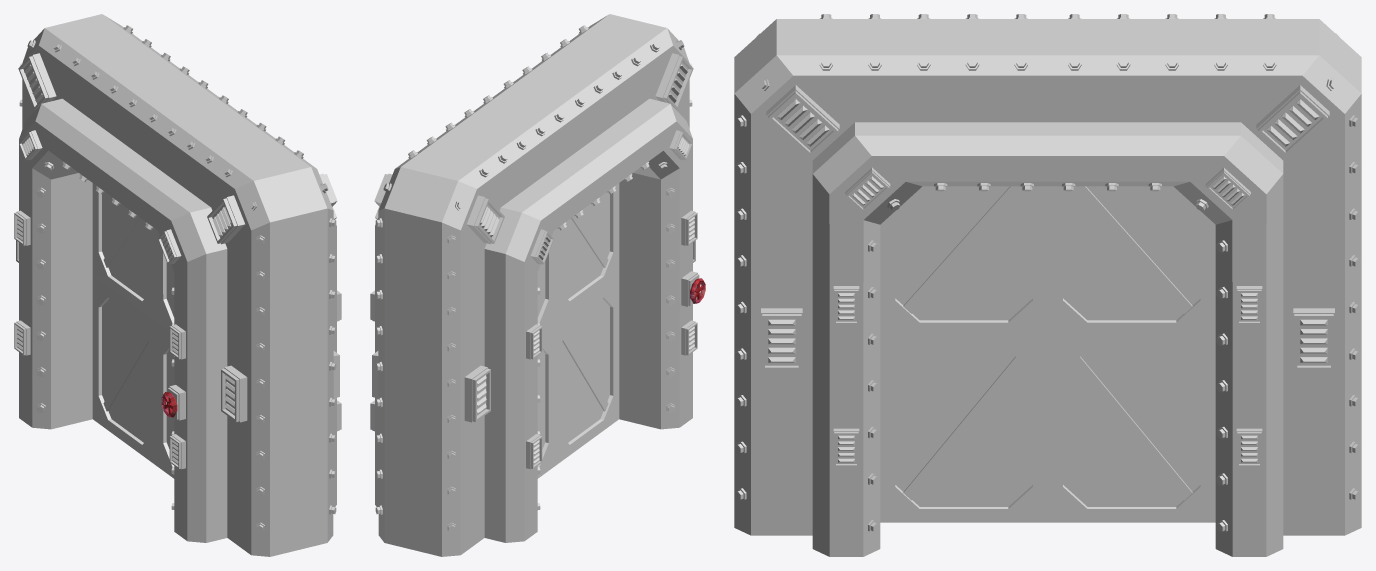
The model's file is Industrial_Gate.fbx.
3 renders of one model, left to right at view 1: azimuth 30°, elevation 25°; view 2: azimuth 150°, elevation 25°; view 3: azimuth 270°, elevation 25°, orthographic. The views are drawn at different scales.
Parts seen in each view (by area): view 1: Gate.002, Door.002; view 2: Gate.002, Door.002, Panel.010; view 3: Gate.002, Door.002.
Boxes of the visible parts, box(x1,y1,x2,y2) form: Gate.002: box(14, 14, 341, 556); Door.002: box(92, 183, 174, 478); Gate.002: box(370, 14, 697, 556); Door.002: box(537, 183, 619, 478); Panel.010: box(681, 271, 699, 306); Gate.002: box(734, 14, 1361, 556); Door.002: box(880, 186, 1215, 522).
Bounding box in the file's own units: 239 × 490 × 589.
Materials: 2 (1 with a texture image).
